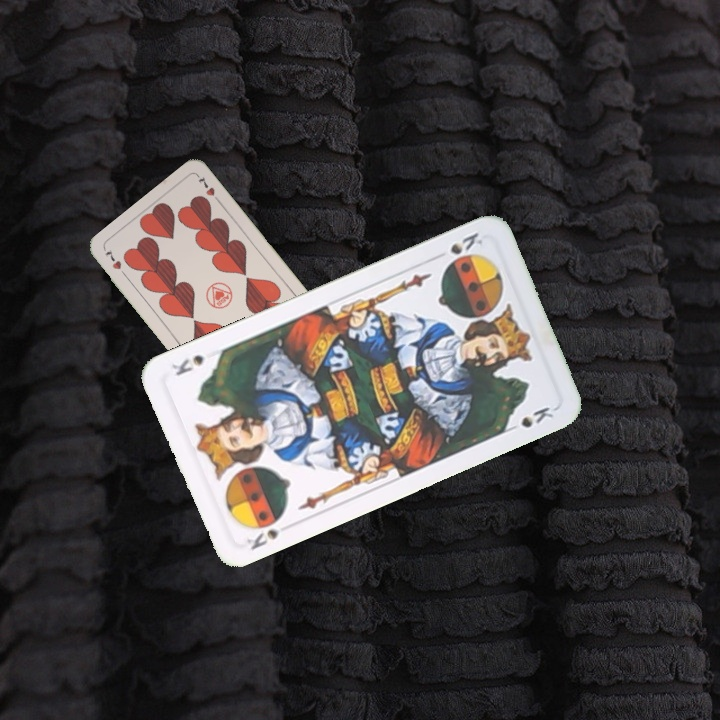H7: (101, 245, 130, 281)
SK: (446, 228, 486, 257), (242, 525, 281, 553)
